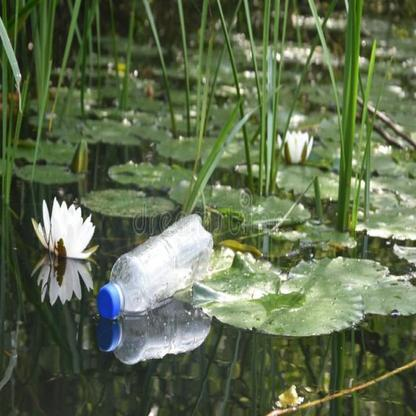plastic bottle: (97, 215, 215, 317)
